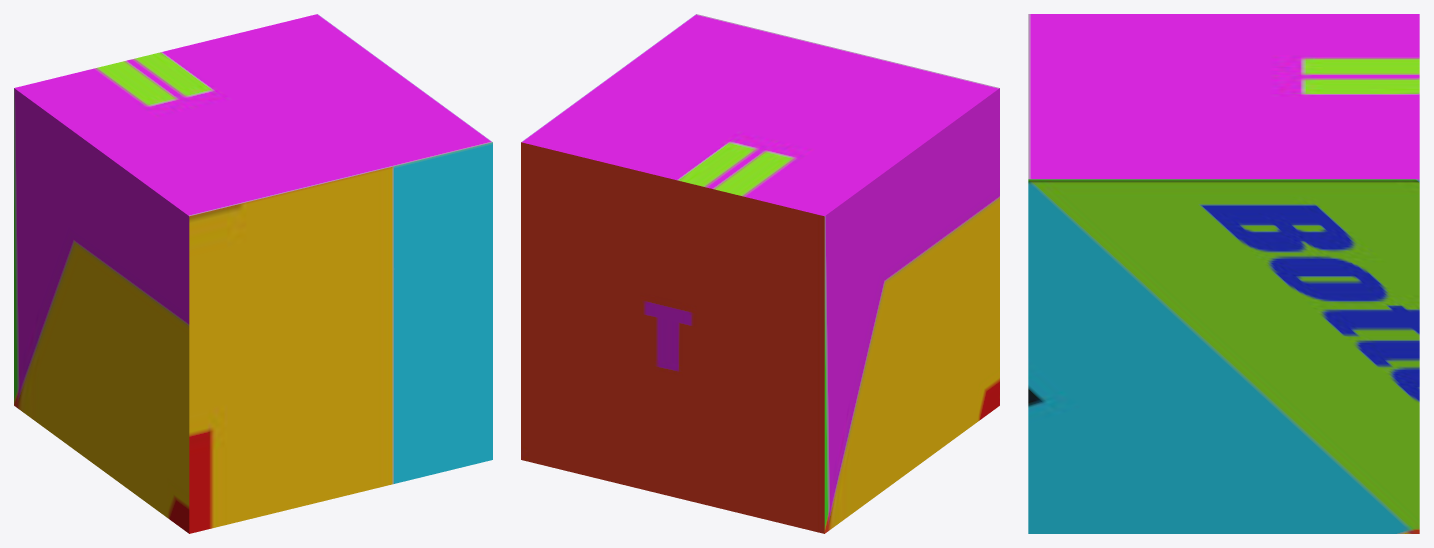
3 renders of one model, left to right at view 1: azimuth 30°, elevation 25°; view 2: azimuth 150°, elevation 25°; view 3: azimuth 270°, elevation 25°, orthographic. The views are drawn at different scales.
Visible parts, largest first — view 1: Cube; view 2: Cube; view 3: Cube.
Part boxes in pixels (x1,y1,x2,y2): Cube: (14,14,492,533); Cube: (521,14,999,533); Cube: (1028,14,1419,533).
Size of the model in its own units: 2 by 2 by 2.
